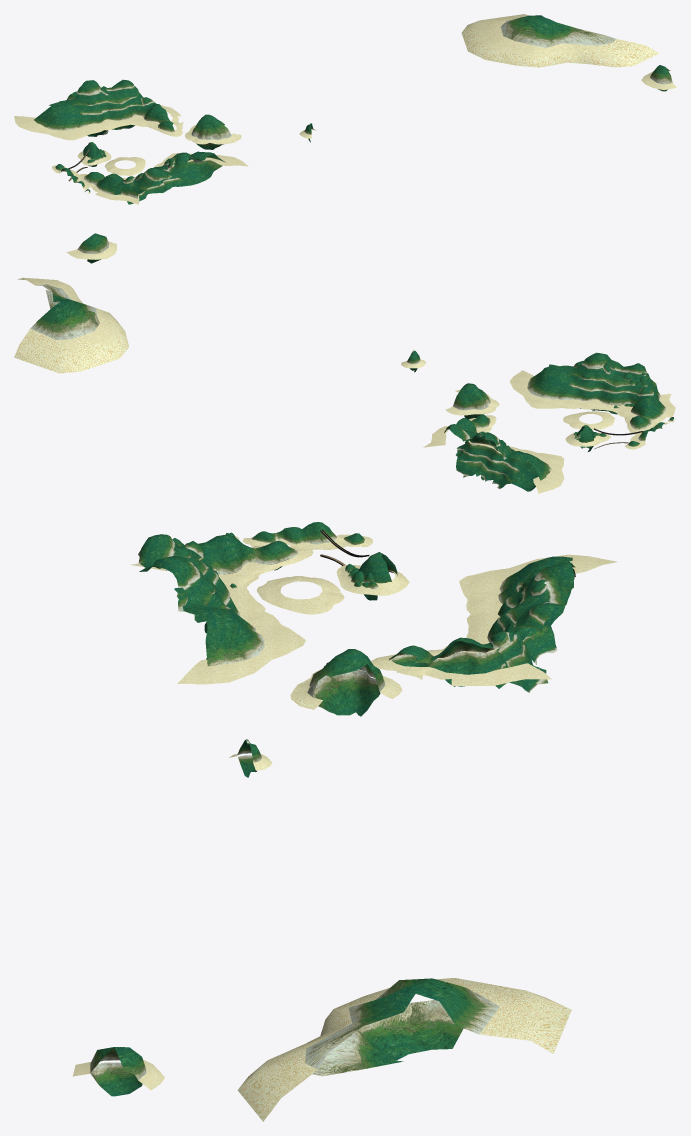
The model's file is sea.obj.
3 renders of one model, top to bottom at view 1: azimuth 30°, elevation 25°; view 2: azimuth 150°, elevation 25°; view 3: azimuth 270°, elevation 25°, orthographic. The views are drawn at different scales.
Visible parts, largest first — view 1: ber00_0, polySurface14_0, polySurface6_0, polySurface11_0, beach_10_0, polySurface13_0, beach_5_0, beach_9_0, polySurface12_0; view 2: ber00_0, polySurface11_0, polySurface6_0, polySurface15_0, beach_5_0, polySurface14_0, beach_10_0, beach_9_0; view 3: ber00_0, ilan00_ref_0, polySurface11_0, polySurface6_0, polySurface14_0, beach_10_0, beach_5_0, polySurface15_0, beach_9_0, polySurface9_0, polySurface12_0, beach_6_0.
Part boxes in pixels (x1,y1,x2,y2): ber00_0: [185, 14, 676, 144]; polySurface14_0: [34, 79, 174, 132]; polySurface6_0: [191, 15, 672, 139]; polySurface11_0: [84, 151, 225, 198]; beach_10_0: [14, 99, 183, 140]; polySurface13_0: [127, 160, 222, 204]; beach_5_0: [80, 153, 248, 204]; beach_9_0: [104, 157, 145, 175]; polySurface12_0: [83, 142, 106, 166]; ber00_0: [14, 241, 499, 415]; polySurface11_0: [527, 352, 665, 429]; polySurface6_0: [30, 233, 490, 410]; polySurface15_0: [456, 440, 538, 491]; beach_5_0: [509, 370, 675, 434]; polySurface14_0: [444, 414, 551, 480]; beach_10_0: [423, 415, 564, 493]; beach_9_0: [563, 411, 614, 430]; ber00_0: [72, 669, 571, 1121]; ilan00_ref_0: [90, 670, 463, 1096]; polySurface11_0: [138, 534, 298, 666]; polySurface6_0: [90, 649, 499, 1080]; polySurface14_0: [388, 556, 575, 663]; beach_10_0: [371, 554, 617, 685]; beach_5_0: [130, 545, 313, 684]; polySurface15_0: [391, 574, 575, 692]; beach_9_0: [256, 576, 344, 614]; polySurface9_0: [225, 522, 364, 544]; polySurface12_0: [345, 552, 397, 600]; beach_6_0: [336, 565, 409, 595].
Size of what is drawn, in the model's own units: 21021 by 1759 by 8508.
10 materials, 10 textured.
